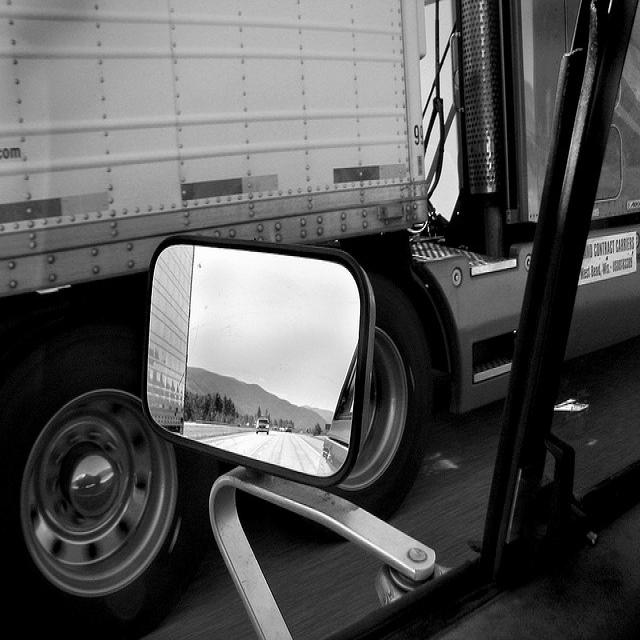Vehicle: (1, 3, 638, 637), (256, 418, 271, 434)
